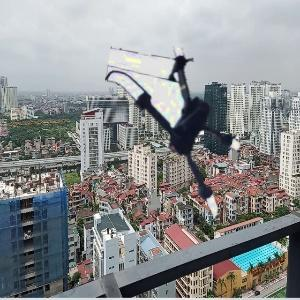drone: (98, 49, 270, 221)
